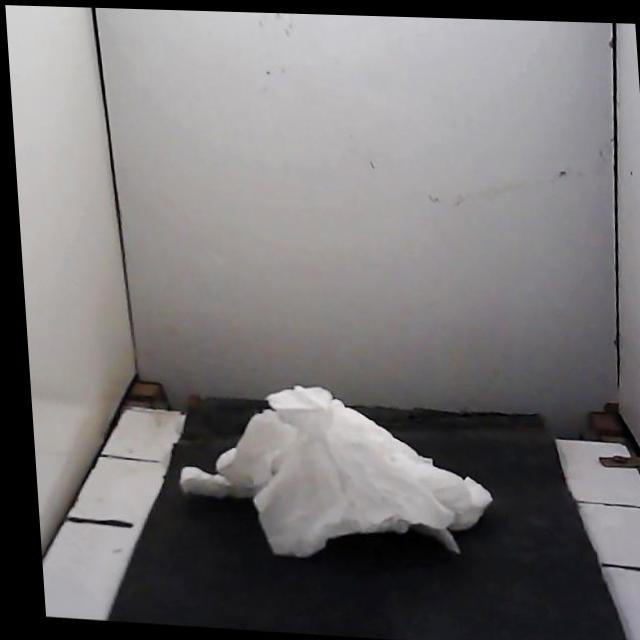papel: (180, 386, 492, 557)
